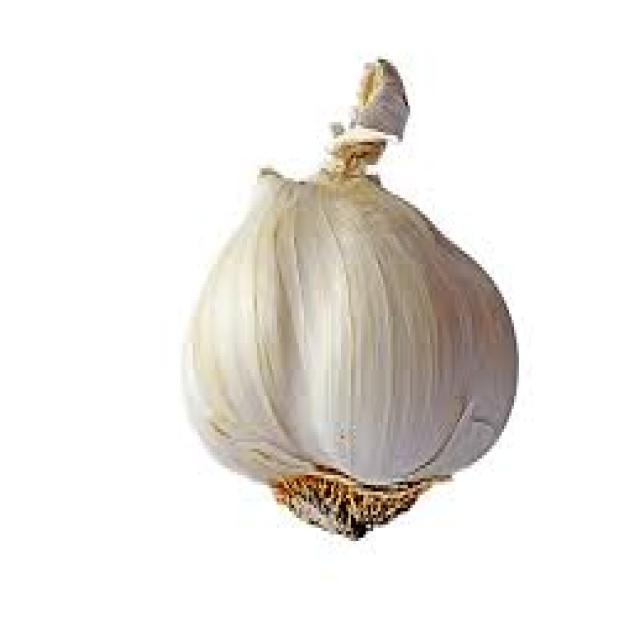garlic: (177, 175, 520, 548)
